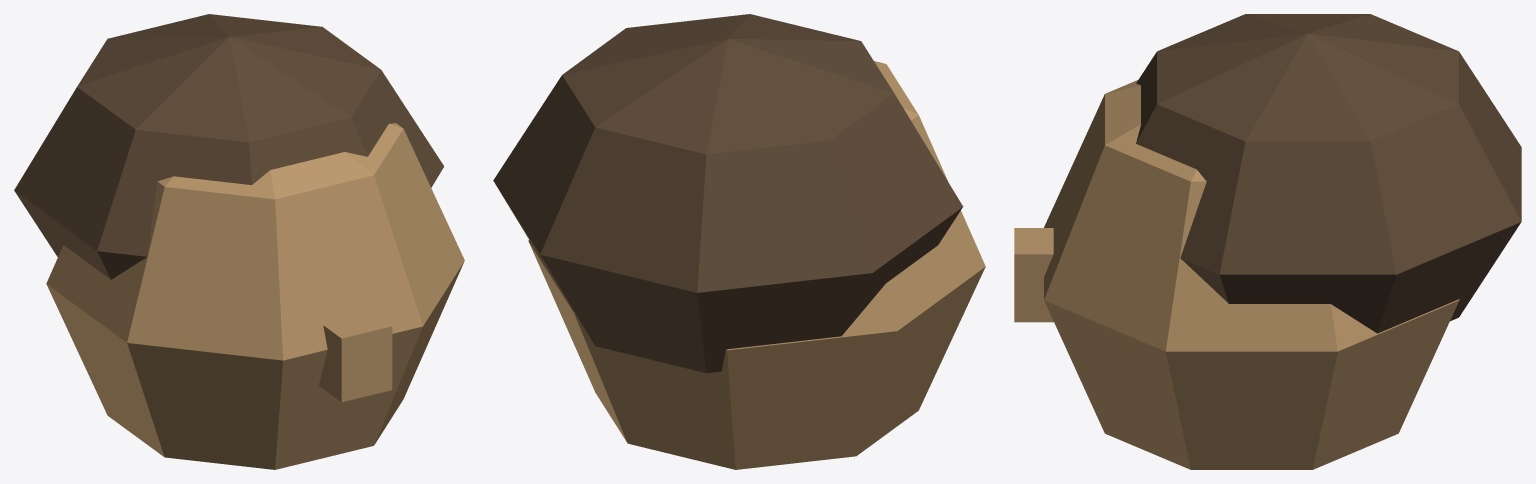
The model's file is villager-head-helper-mud.glb.
3 views of the same model, side by side, from view 1: azimuth 30°, elevation 25°; view 2: azimuth 150°, elevation 25°; view 3: azimuth 270°, elevation 25° (orthographic). The views are drawn at different scales.
Visible parts, largest first — view 1: head; view 2: head; view 3: head.
Boxes of the visible parts, x1,y1,x2,y2 form: head: (14, 14, 464, 469); head: (493, 14, 985, 469); head: (1014, 14, 1521, 469).
Size of the model in its own units: 0.6837 by 0.7664 by 0.8118.
1 material, 1 textured.
